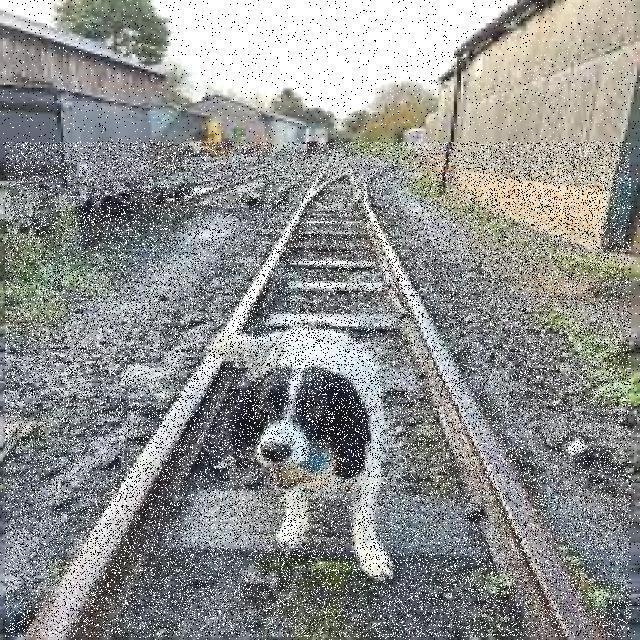rail: (7, 144, 631, 638)
